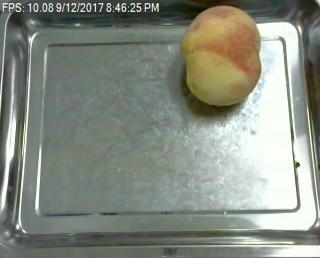Peach: (180, 5, 262, 104)
